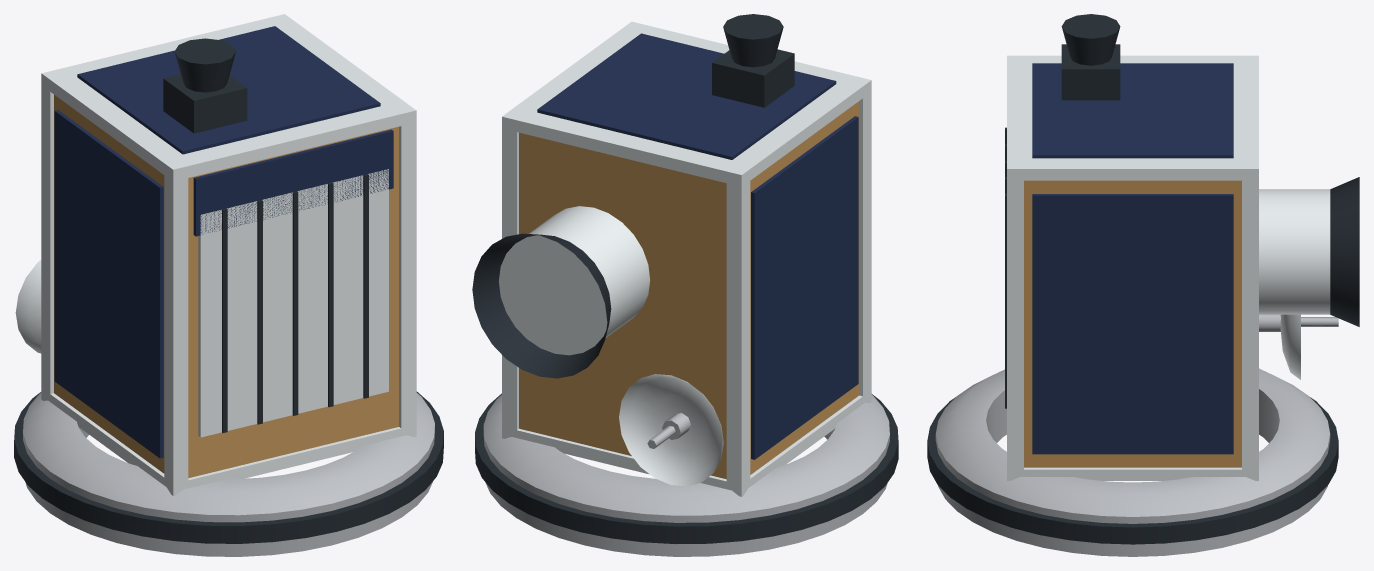
File: satpwr_body_mounted_solar_cells.glb
The picture shows the model from 3 angles, left to right: view 1: azimuth 30°, elevation 25°; view 2: azimuth 150°, elevation 25°; view 3: azimuth 270°, elevation 25°; orthographic projection. The views are drawn at different scales.
Visible parts, largest first — view 1: satpwr_body_mounted_solar_cells_mesh; view 2: satpwr_body_mounted_solar_cells_mesh; view 3: satpwr_body_mounted_solar_cells_mesh.
Boxes of the visible parts, box(x1,y1,x2,y2) form: satpwr_body_mounted_solar_cells_mesh: box(14, 14, 443, 556); satpwr_body_mounted_solar_cells_mesh: box(472, 14, 898, 556); satpwr_body_mounted_solar_cells_mesh: box(927, 14, 1359, 556).
Size of the model in its own units: 0.98 by 1.12 by 1.03.
